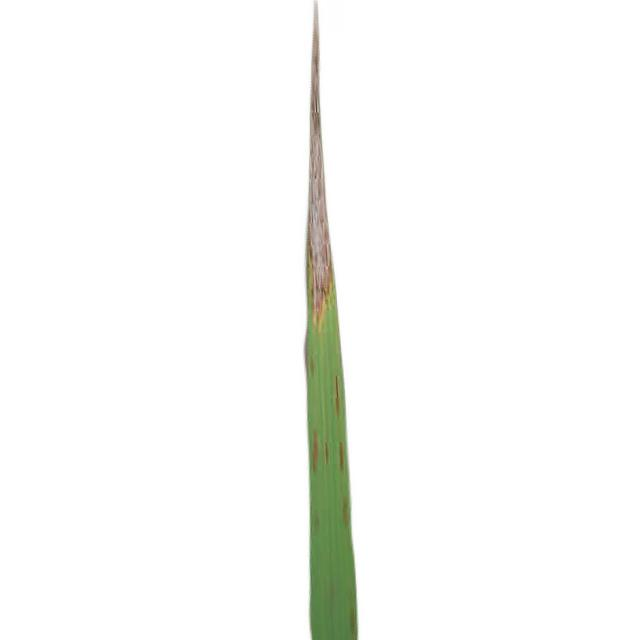Leaf scald: (196, 0, 462, 640)
